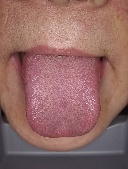tongue: (18, 58, 101, 139)
